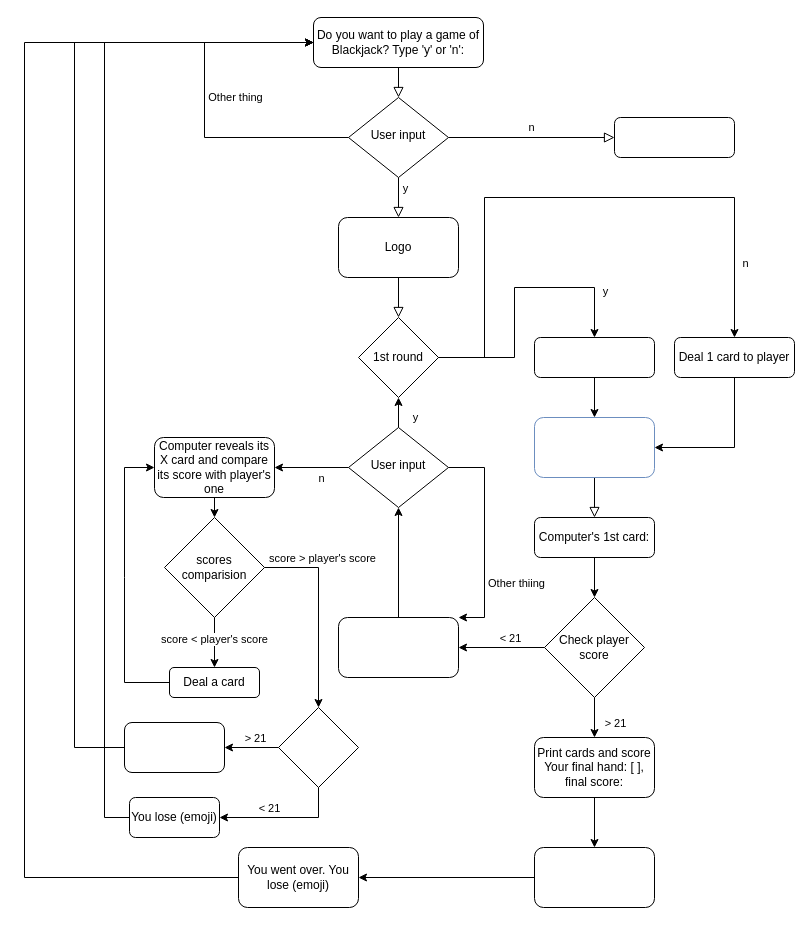
Image size: 812x925. Some labels were removed from this diagram. Here are the shapes that lost their labels. From the top down, the centre of each, then its label:
the point at 674,137: Exit program
the point at 594,357: Deal 2 cards to each player
the point at 594,447: Print cards and score Your cards: [ ], current score:
the point at 398,647: Type 'y' to get another card, type 'n' to pass:
the point at 174,747: Computer went over. You win (emoji)
the point at 318,747: compare to 21
the point at 594,877: Computer's final hand: [ ], final score:
